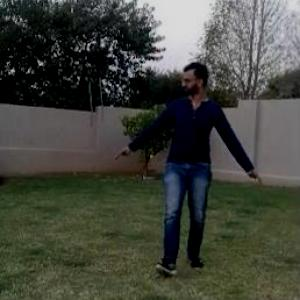land: (106, 59, 281, 291)
